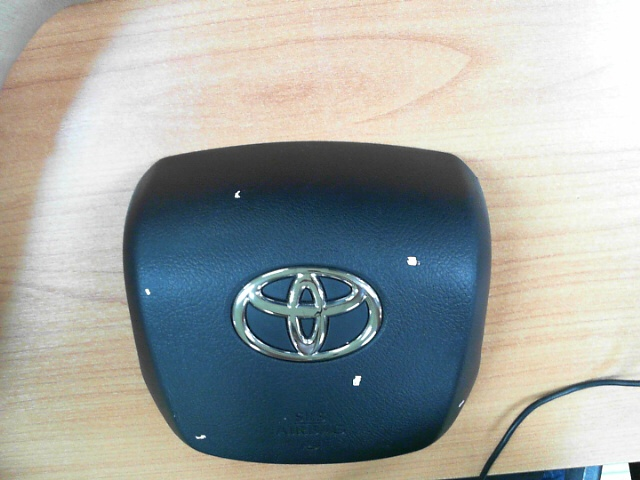Airbag: (406, 256, 421, 266), (352, 376, 362, 389), (233, 190, 242, 198), (195, 434, 206, 440), (144, 288, 151, 296), (458, 400, 464, 408)
